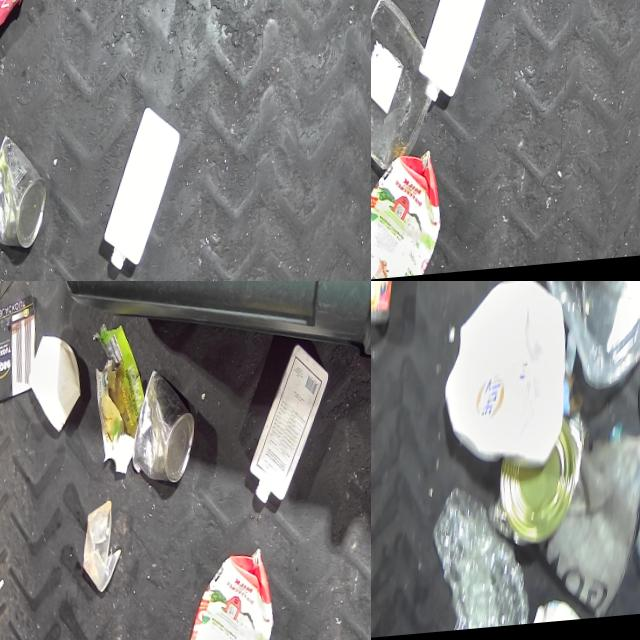can: (496, 419, 591, 550), (134, 368, 199, 487), (0, 132, 52, 253)
milk_jug: (443, 281, 571, 479), (251, 345, 333, 514), (105, 109, 184, 279), (418, 0, 500, 111)
non_white_jug: (371, 146, 448, 281), (183, 548, 281, 640)
plastic_bottle: (431, 491, 537, 636), (610, 412, 640, 582)
